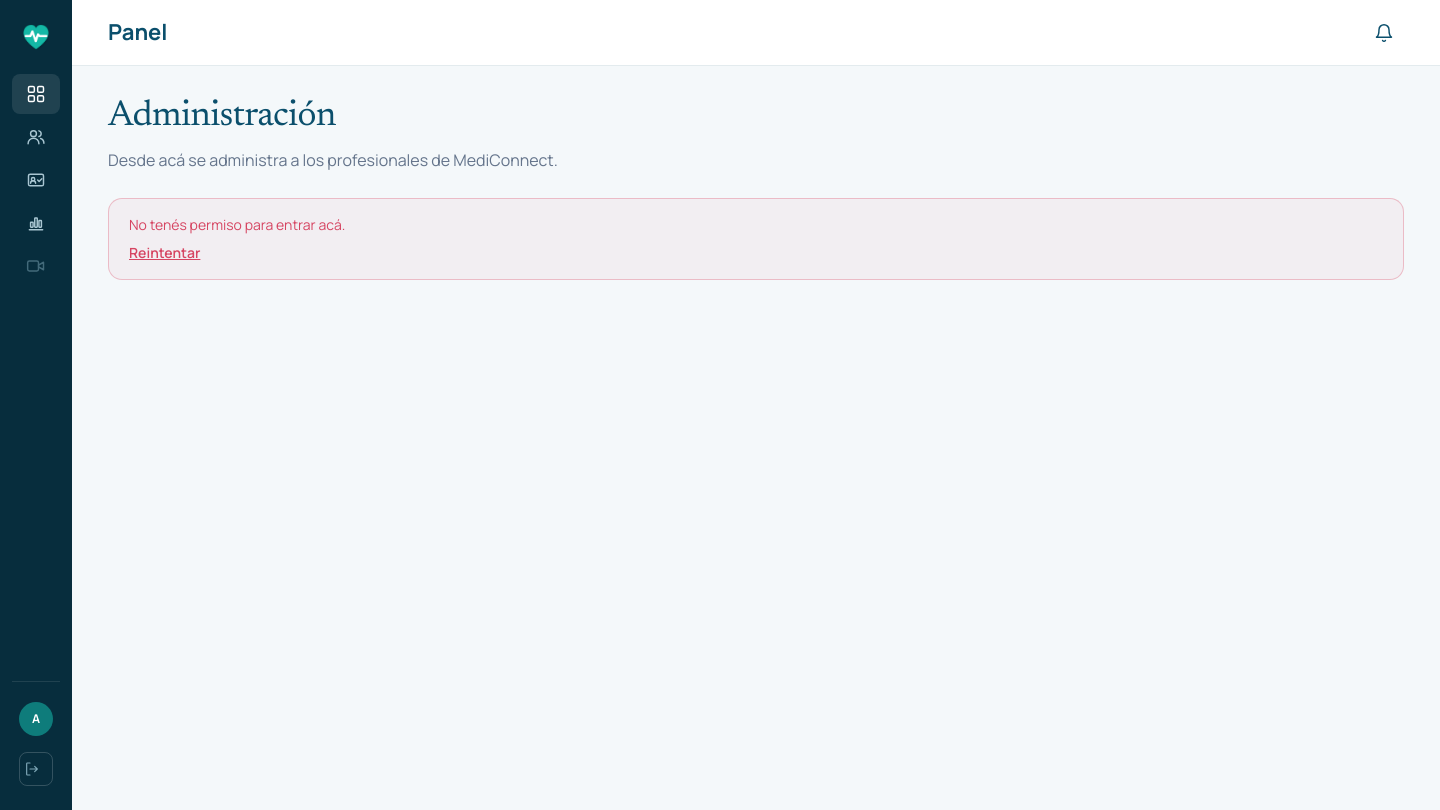
Scenario: Panel del administrador › si el backend no lo deja entrar, lo dice y deja reintentar
Check: the message shows "No tenés permiso para entrar acá.", box [129,215,345,234]
Click the button "Reintentar" at (165, 253), box [129,243,200,263]
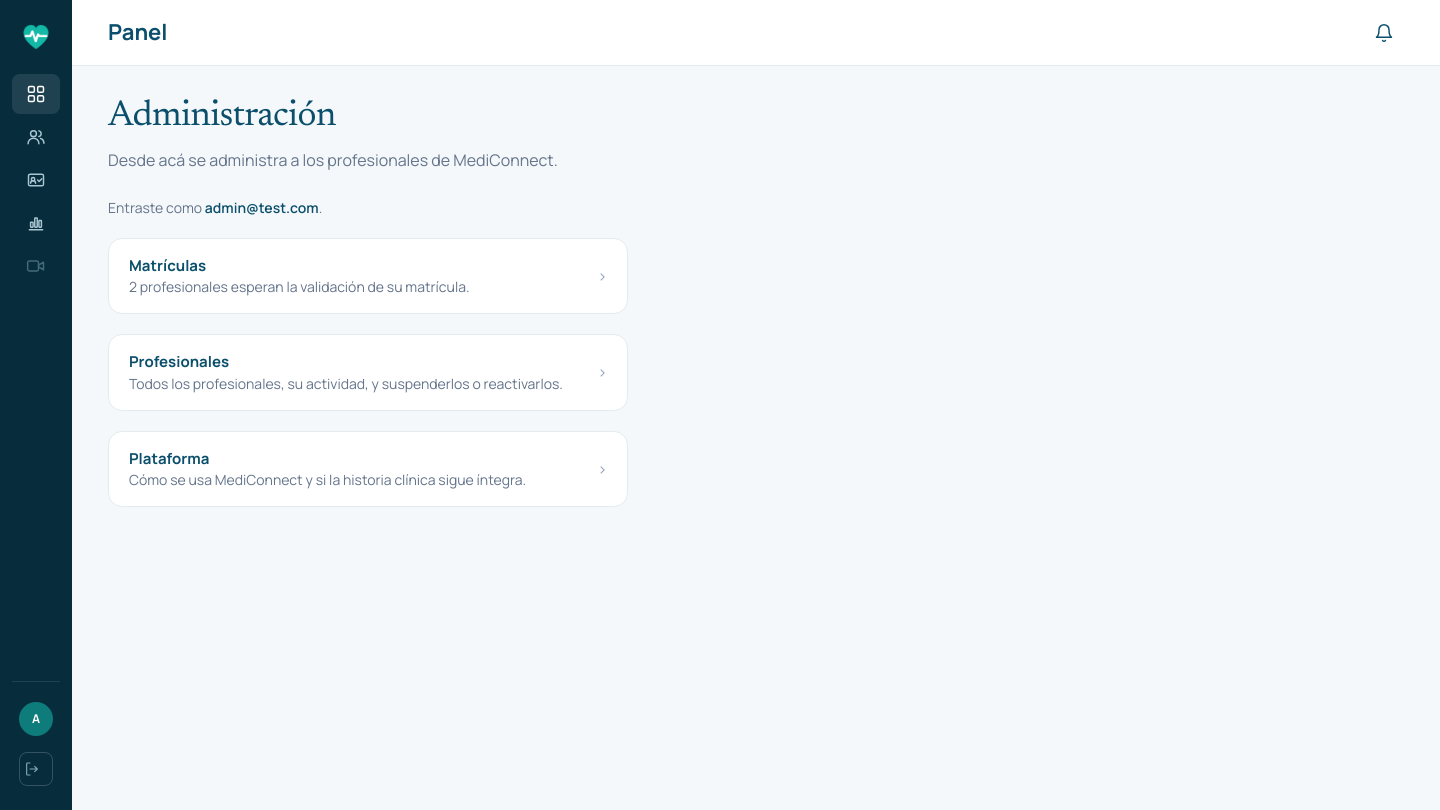
Check: the text "Entraste como admin@test.com." is shown, box [108,198,322,217]
